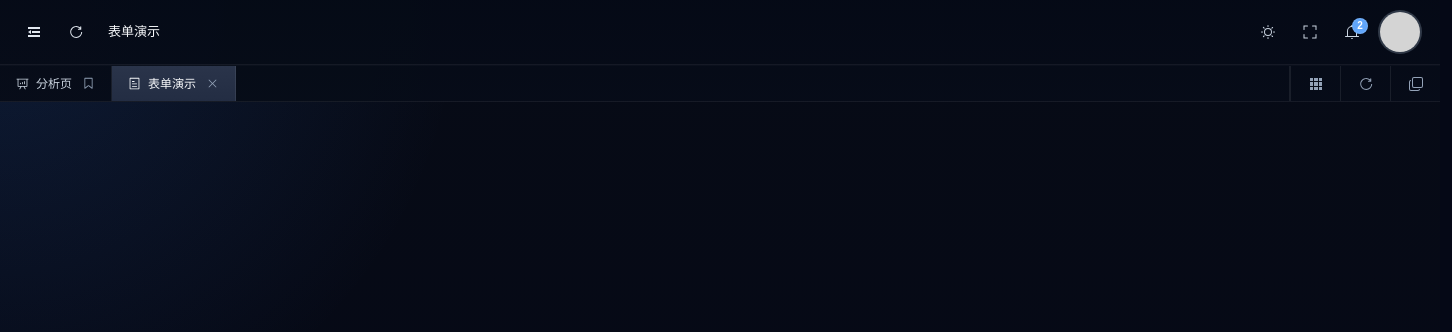
AppHeader › closes the active tab and returns to the previous visited tab
This screenshot has width=1452, height=332.
Click the button with test id "tab-close" at (212, 84), box [206, 77, 219, 90]
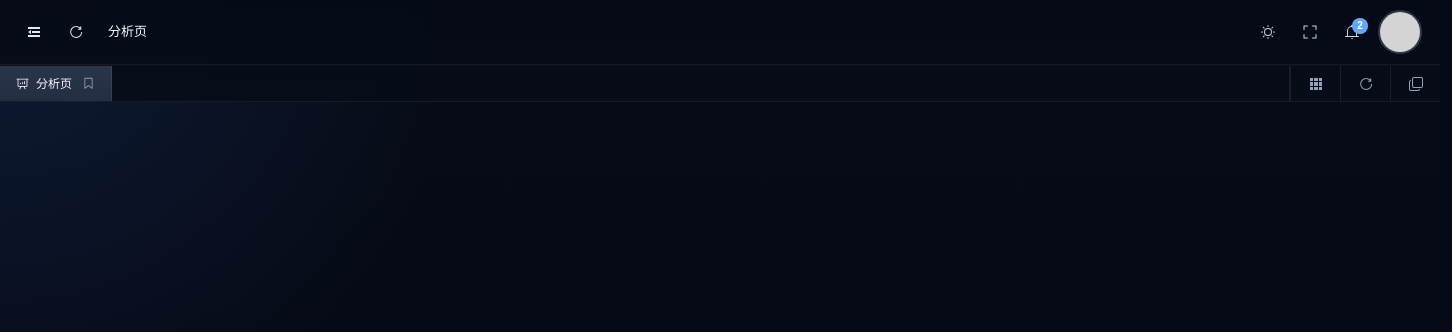
Expected: the text "表单演示" is gone
